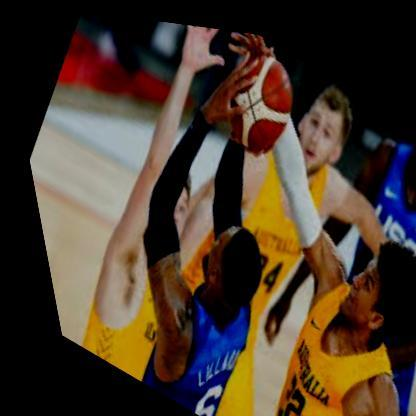basketball: (199, 31, 316, 163)
